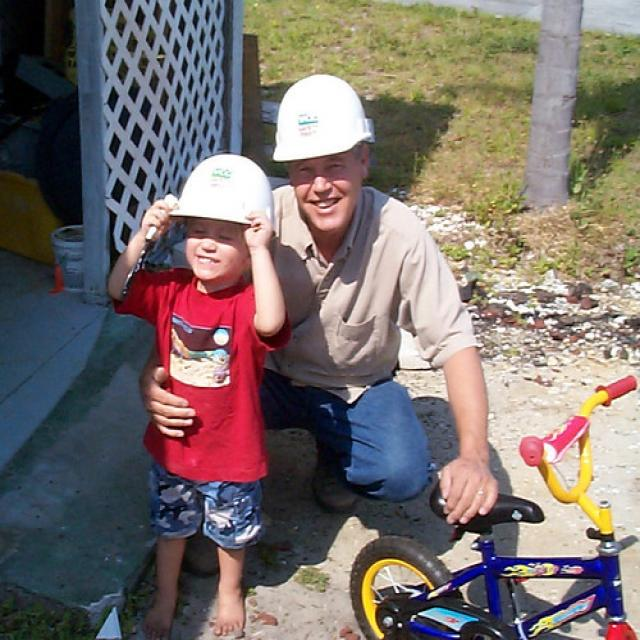Reflective-Jacket: (133, 265, 274, 488)
Safety-Helmet: (268, 69, 377, 166), (165, 145, 275, 228)
